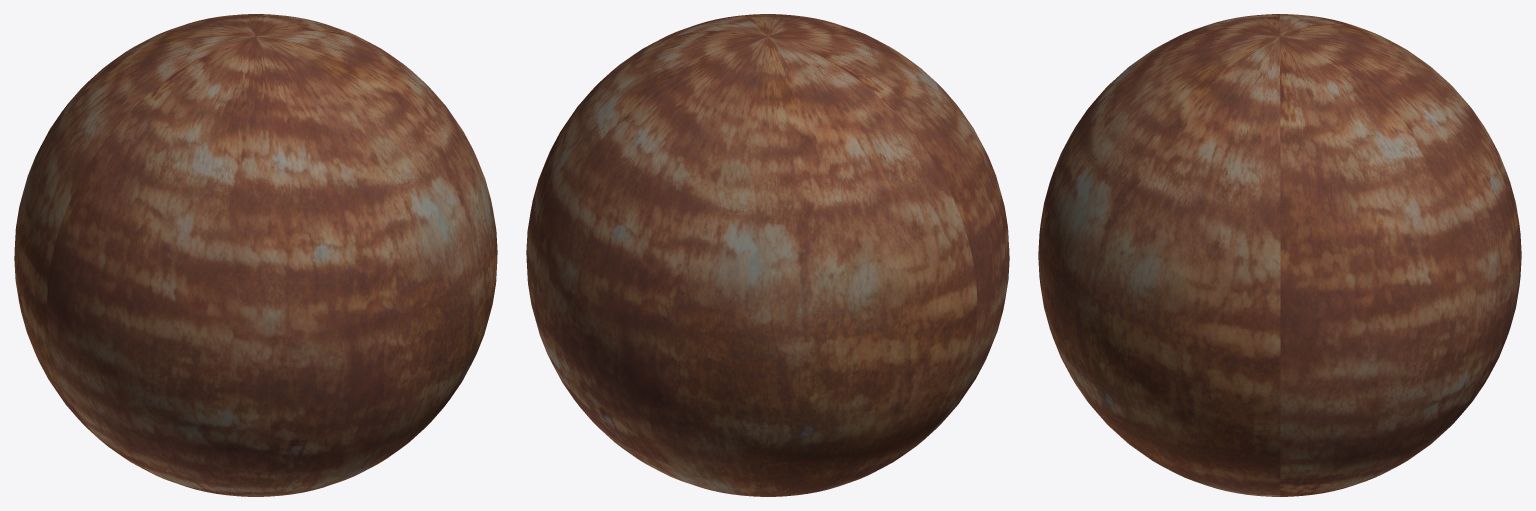
The picture shows the model from 3 angles, left to right: view 1: azimuth 30°, elevation 25°; view 2: azimuth 150°, elevation 25°; view 3: azimuth 270°, elevation 25°; orthographic projection.
Visible parts, largest first — view 1: Sphere; view 2: Sphere; view 3: Sphere.
Boxes of the visible parts, x1,y1,x2,y2 form: Sphere: (14, 14, 497, 496); Sphere: (526, 14, 1009, 496); Sphere: (1038, 14, 1521, 496).
Size of the model in its own units: 1.7 by 1.7 by 1.7.
Materials: 1 (1 with a texture image).
